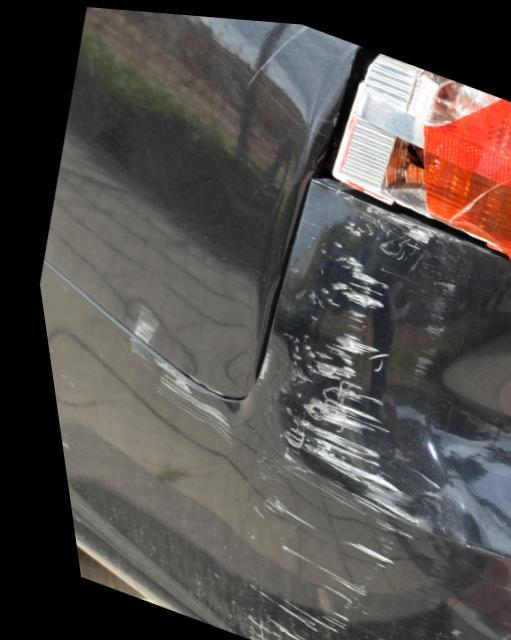lamp broken: (325, 46, 511, 254)
scratch: (111, 192, 449, 640)
